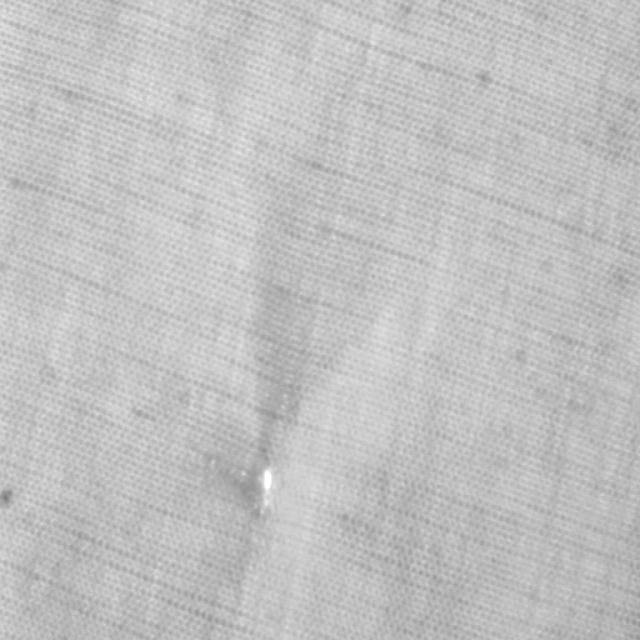hole: (256, 462, 279, 522)
